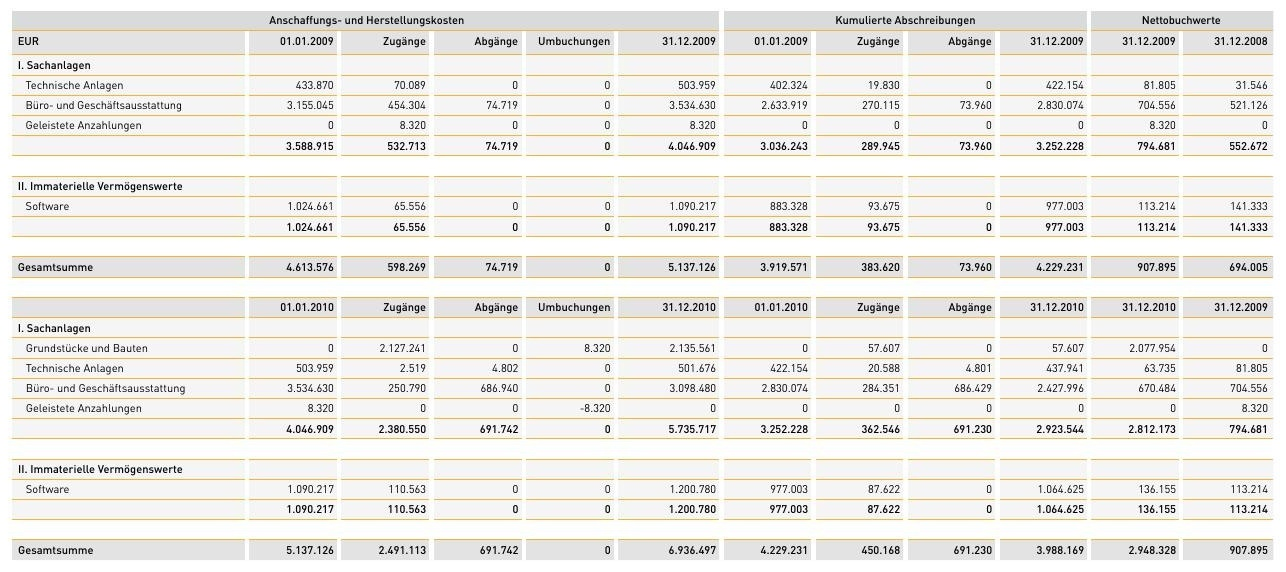table: (0, 0, 1286, 572)
